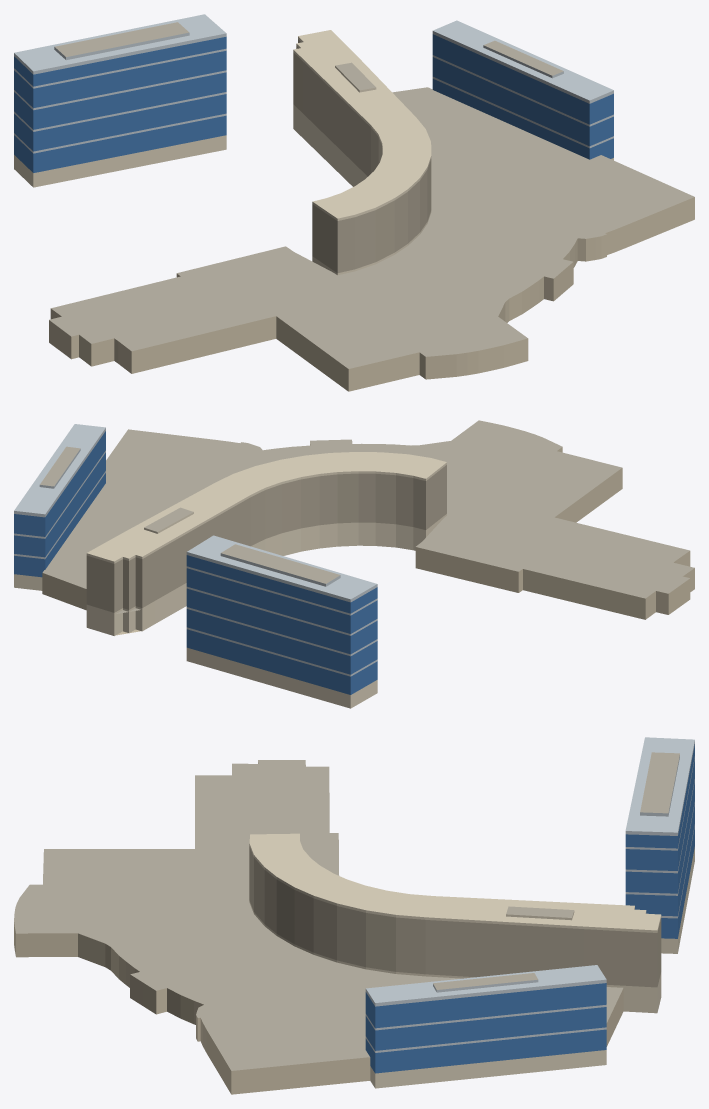
Rendered from virgin_hotels_las_vega_w133757429.glb.
The picture shows the model from 3 angles, top to bottom: view 1: azimuth 30°, elevation 25°; view 2: azimuth 150°, elevation 25°; view 3: azimuth 270°, elevation 25°; orthographic projection. The views are drawn at different scales.
Visible parts, largest first — view 1: Tower_w133757429; view 2: Tower_w133757429; view 3: Tower_w133757429.
Part boxes in pixels (x1=…): Tower_w133757429: x1=14, y1=14, x2=694, y2=391; Tower_w133757429: x1=14, y1=420, x2=694, y2=708; Tower_w133757429: x1=14, y1=737, x2=694, y2=1094.
Bounding box in the file's own units: 310 × 57.9 × 287.
